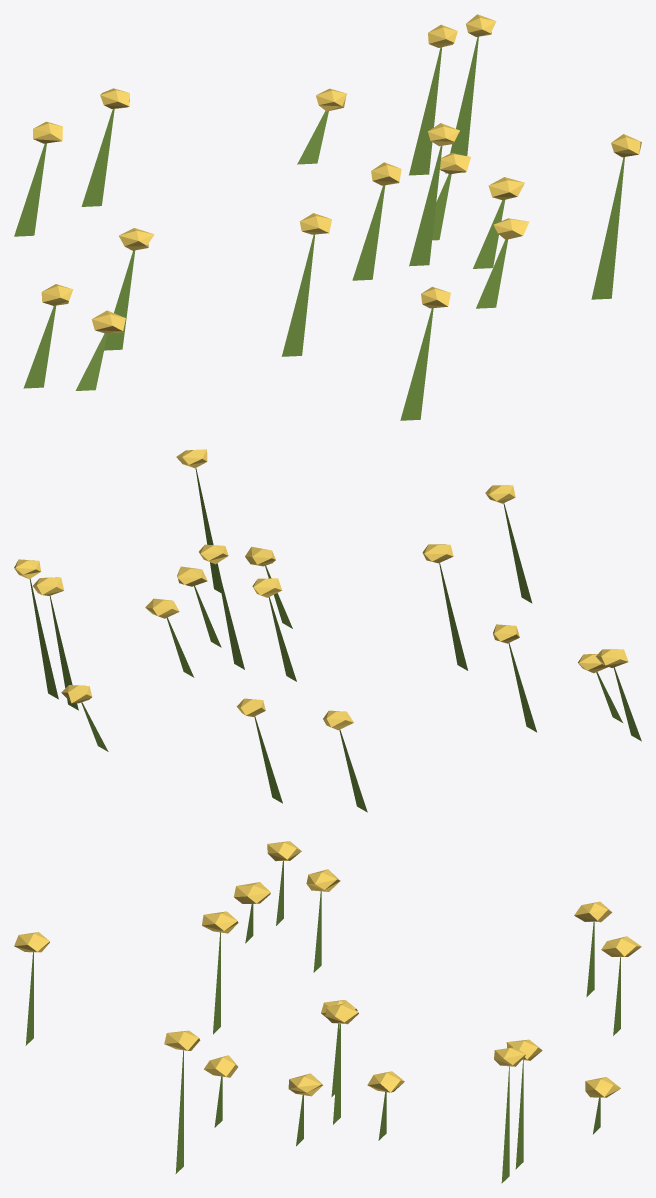
Rendered from flowers.glb.
The picture shows the model from 3 angles, top to bottom: view 1: azimuth 30°, elevation 25°; view 2: azimuth 150°, elevation 25°; view 3: azimuth 270°, elevation 25°; orthographic projection. The views are drawn at different scales.
Size of the model in its own units: 2.88 by 0.7231 by 2.72.
1 material, 1 textured.
